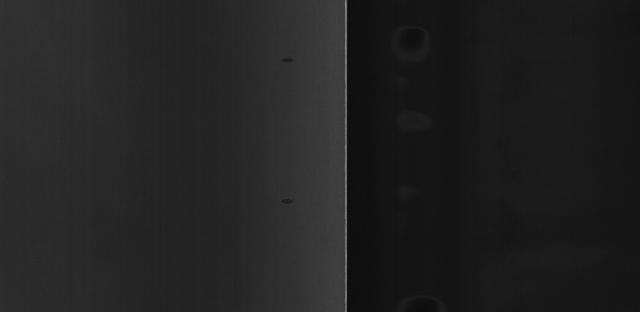oil_spot: (278, 196, 311, 213), (275, 50, 296, 72)
